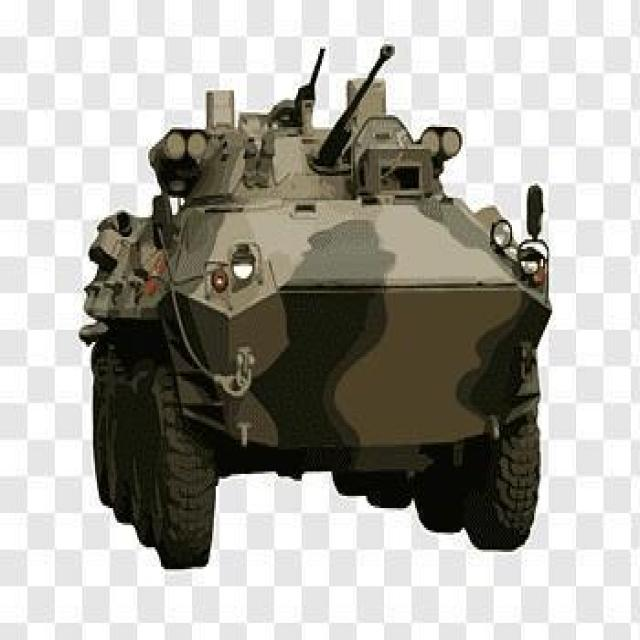Tanks: (72, 86, 564, 588)
